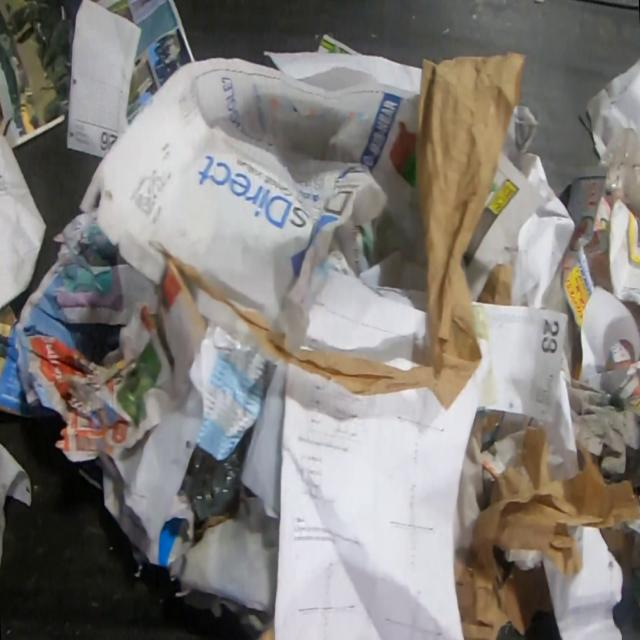rigid_plastic: (178, 444, 245, 522)
soft_plastic: (596, 127, 640, 218)
